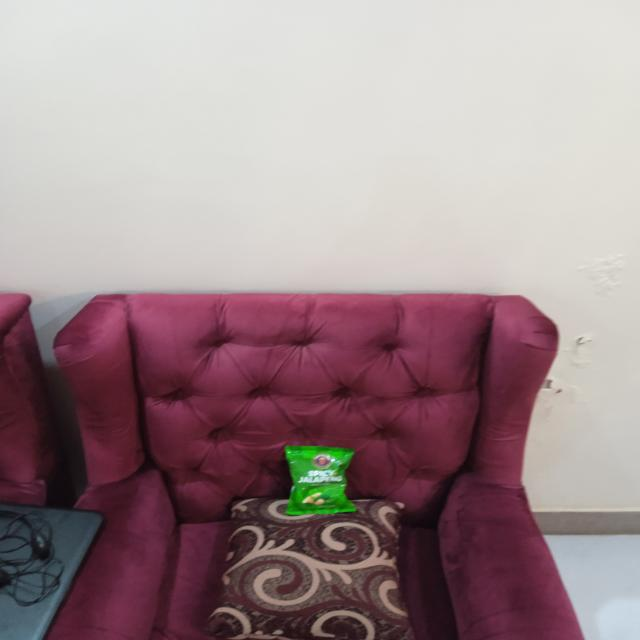Plastic: (289, 446, 351, 514)
